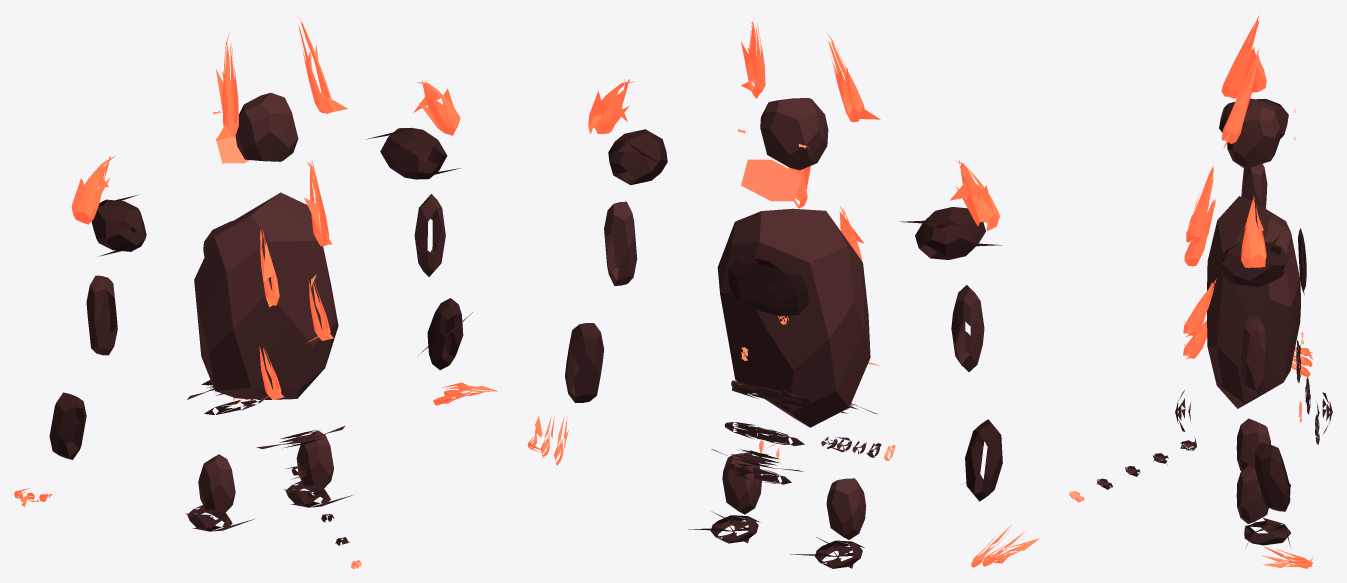
File: rm_rf_boss_lod1.glb
The picture shows the model from 3 angles, left to right: view 1: azimuth 30°, elevation 25°; view 2: azimuth 150°, elevation 25°; view 3: azimuth 270°, elevation 25°; orthographic projection. The views are drawn at different scales.
Visible parts, largest first — view 1: rm_rf_boss; view 2: rm_rf_boss; view 3: rm_rf_boss.
Boxes of the visible parts, x1,y1,x2,y2 form: rm_rf_boss: (14,16,497,568); rm_rf_boss: (527,17,1039,568); rm_rf_boss: (1069,15,1332,568).
Size of the model in its own units: 5.78 by 5.77 by 2.83.
